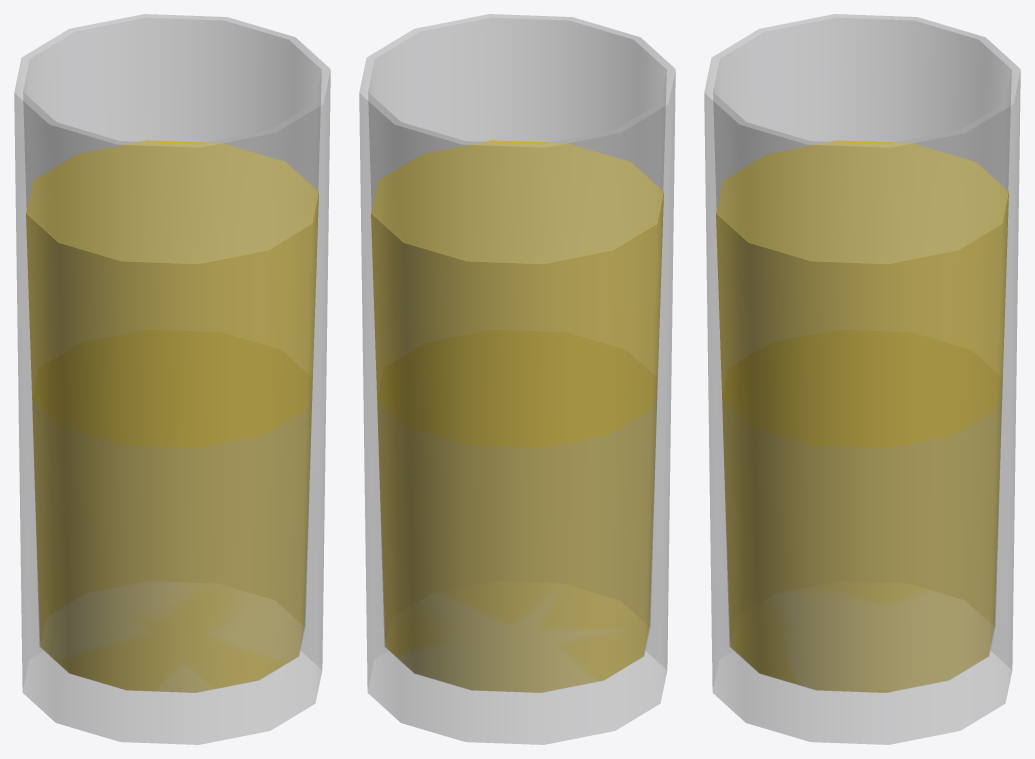
The model's file is chengzhi.FBX.
The picture shows the model from 3 angles, left to right: view 1: azimuth 30°, elevation 25°; view 2: azimuth 150°, elevation 25°; view 3: azimuth 270°, elevation 25°; orthographic projection.
Parts seen in each view (by area): view 1: chengzhi_bei, chengzhi_cz; view 2: chengzhi_bei, chengzhi_cz; view 3: chengzhi_bei, chengzhi_cz.
Boxes of the visible parts, <box> form: chengzhi_bei: <box>14,14,330,744</box>; chengzhi_cz: <box>26,140,318,692</box>; chengzhi_bei: <box>359,14,675,744</box>; chengzhi_cz: <box>371,140,663,692</box>; chengzhi_bei: <box>704,14,1020,744</box>; chengzhi_cz: <box>716,140,1008,692</box>.
Size of the model in its own units: 6.4 by 13.39 by 6.4.
